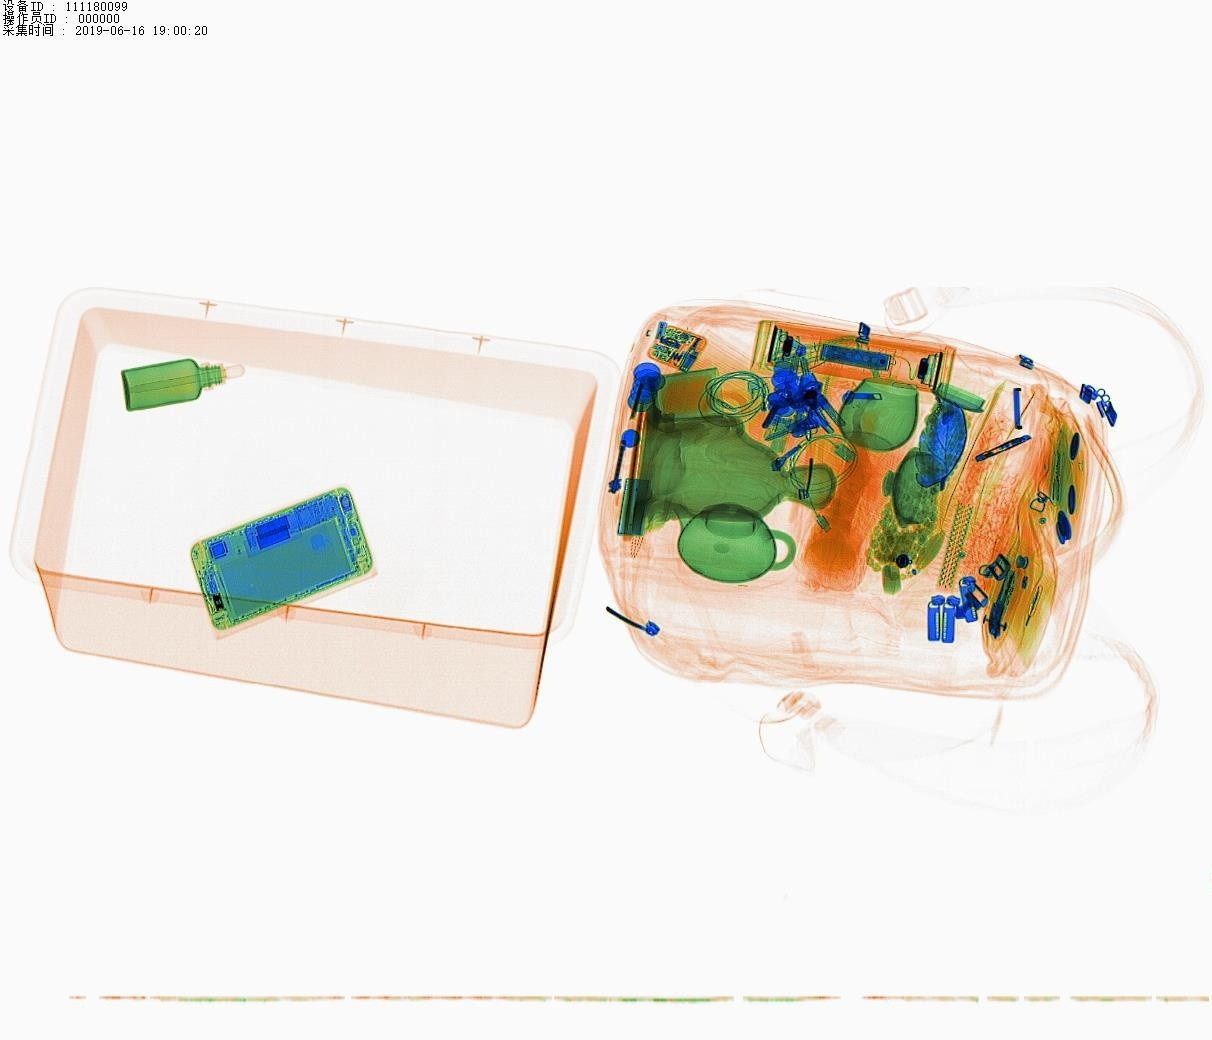NonmetallicFire: (730, 357, 778, 456)
